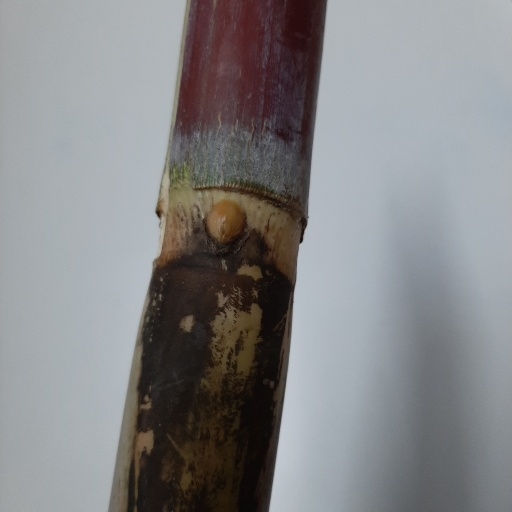Bud: (205, 197, 246, 249)
